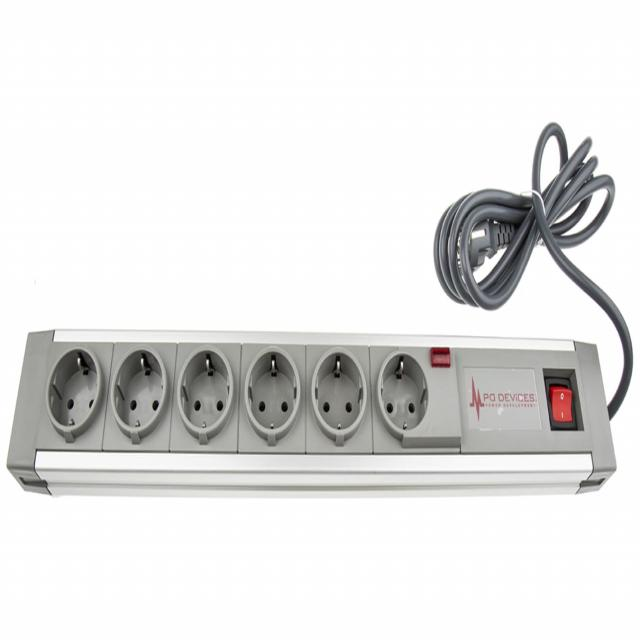typeb: (1, 298, 634, 575)
